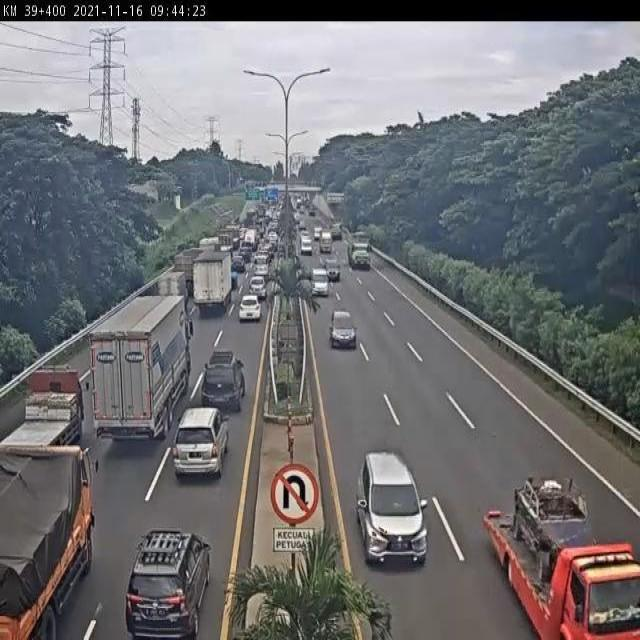Car: (125, 529, 211, 638), (356, 450, 428, 566), (170, 406, 233, 476), (200, 349, 247, 412), (329, 310, 358, 350), (238, 294, 262, 322), (249, 275, 267, 301), (324, 256, 340, 282), (231, 255, 246, 273), (238, 246, 252, 263), (331, 223, 342, 240), (314, 226, 322, 241), (298, 220, 306, 230)
Truck: (482, 475, 640, 640), (0, 441, 103, 640), (88, 295, 193, 442), (1, 364, 89, 450), (192, 250, 234, 318), (173, 248, 208, 298), (156, 269, 188, 310), (347, 238, 374, 272), (218, 226, 238, 251), (198, 235, 220, 252), (243, 228, 257, 252), (319, 230, 333, 253), (258, 209, 268, 226)
Van: (310, 267, 329, 297), (253, 253, 270, 279)
